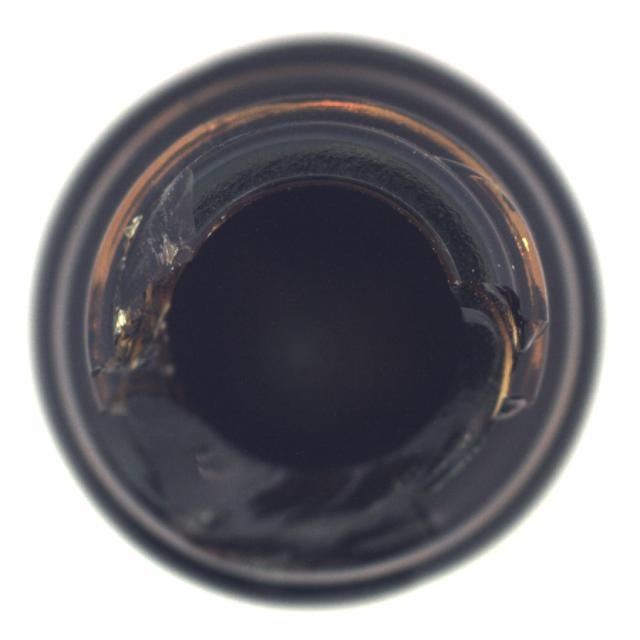bad-broken_large: (28, 31, 604, 609)
